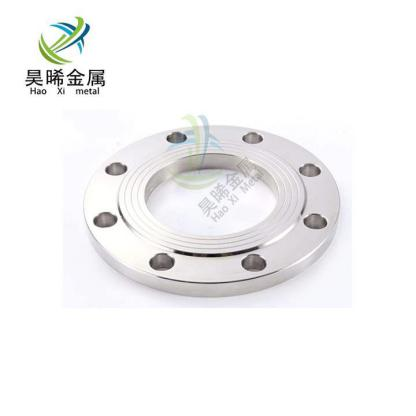FOD: (80, 119, 345, 299)
